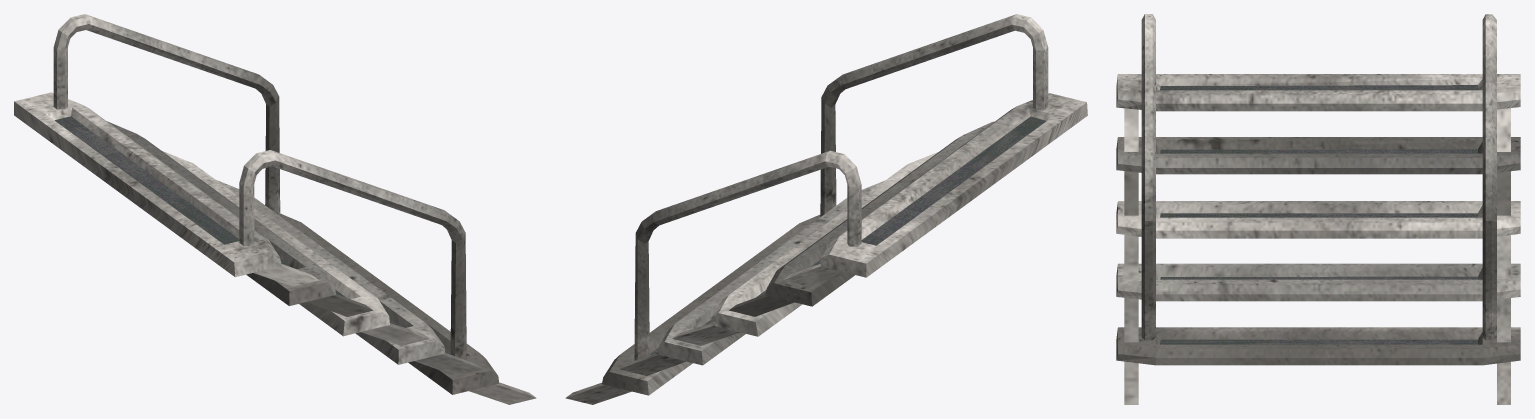
The model's file is trap.obj.
3 renders of one model, left to right at view 1: azimuth 30°, elevation 25°; view 2: azimuth 150°, elevation 25°; view 3: azimuth 270°, elevation 25°, orthographic. The views are drawn at different scales.
Parts seen in each view (by area): view 1: Group; view 2: Group; view 3: Group.
Boxes of the visible parts, box(x1,y1,x2,y2) form: Group: box(14, 14, 536, 404); Group: box(565, 14, 1087, 404); Group: box(1116, 14, 1520, 404).
Bounding box in the file's own units: 179 × 167 × 225.
